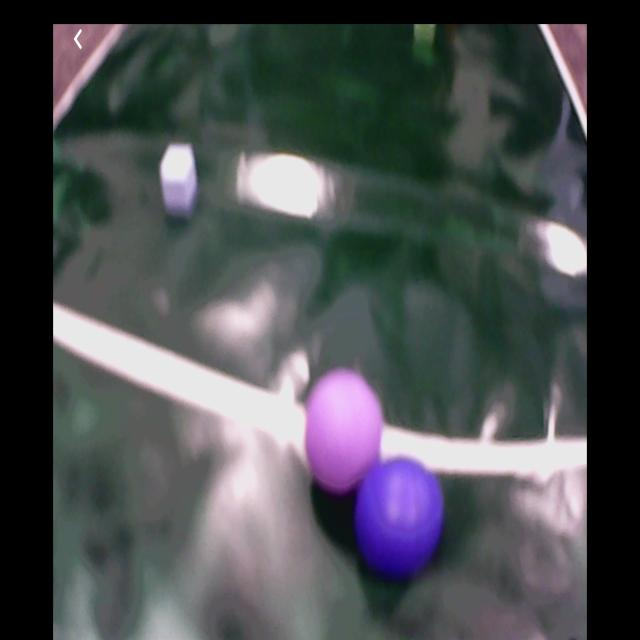ball: (355, 457, 443, 577), (307, 370, 388, 491)
